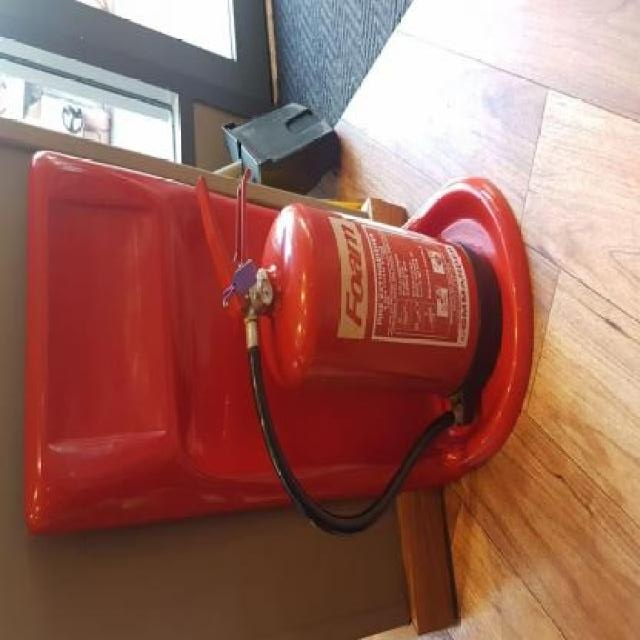fire extinguisher: (197, 168, 506, 540)
